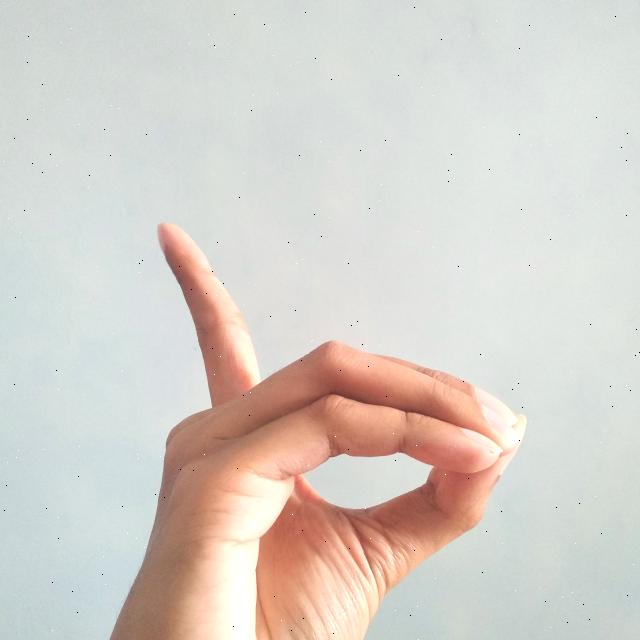D: (108, 222, 532, 640)
